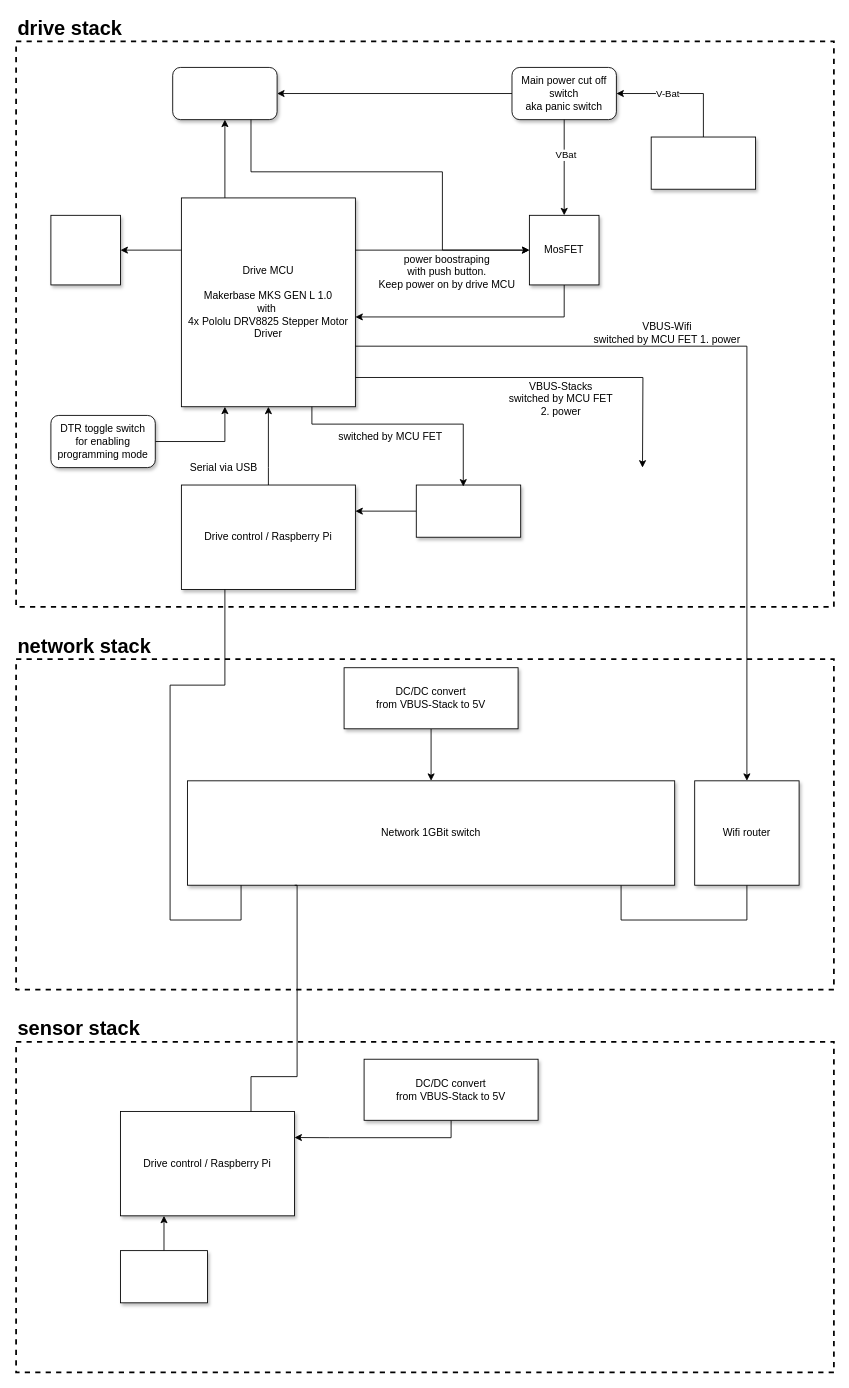
The diagram is 849 pixels wide and 1388 high, and some of its shapes have lost their labels. The shapes that lost their labels are listed below. From the top down, each one's centre as x and y in pixels, then its label:
At pixel 225 94: "Power push button with LED".
At pixel 704 164: "Lead acid battery 2x 12V serial".
At pixel 86 251: "4x Stepper Motor".
At pixel 469 512: "DC/DC convert MCU FET out to 5V".
At pixel 164 1277: "Raspi Cam".
